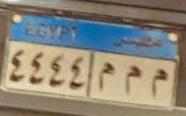4: (67, 49, 88, 89), (28, 44, 47, 84), (7, 45, 27, 82), (45, 50, 66, 83)
م: (117, 59, 146, 93), (96, 54, 120, 94), (146, 62, 170, 98)
